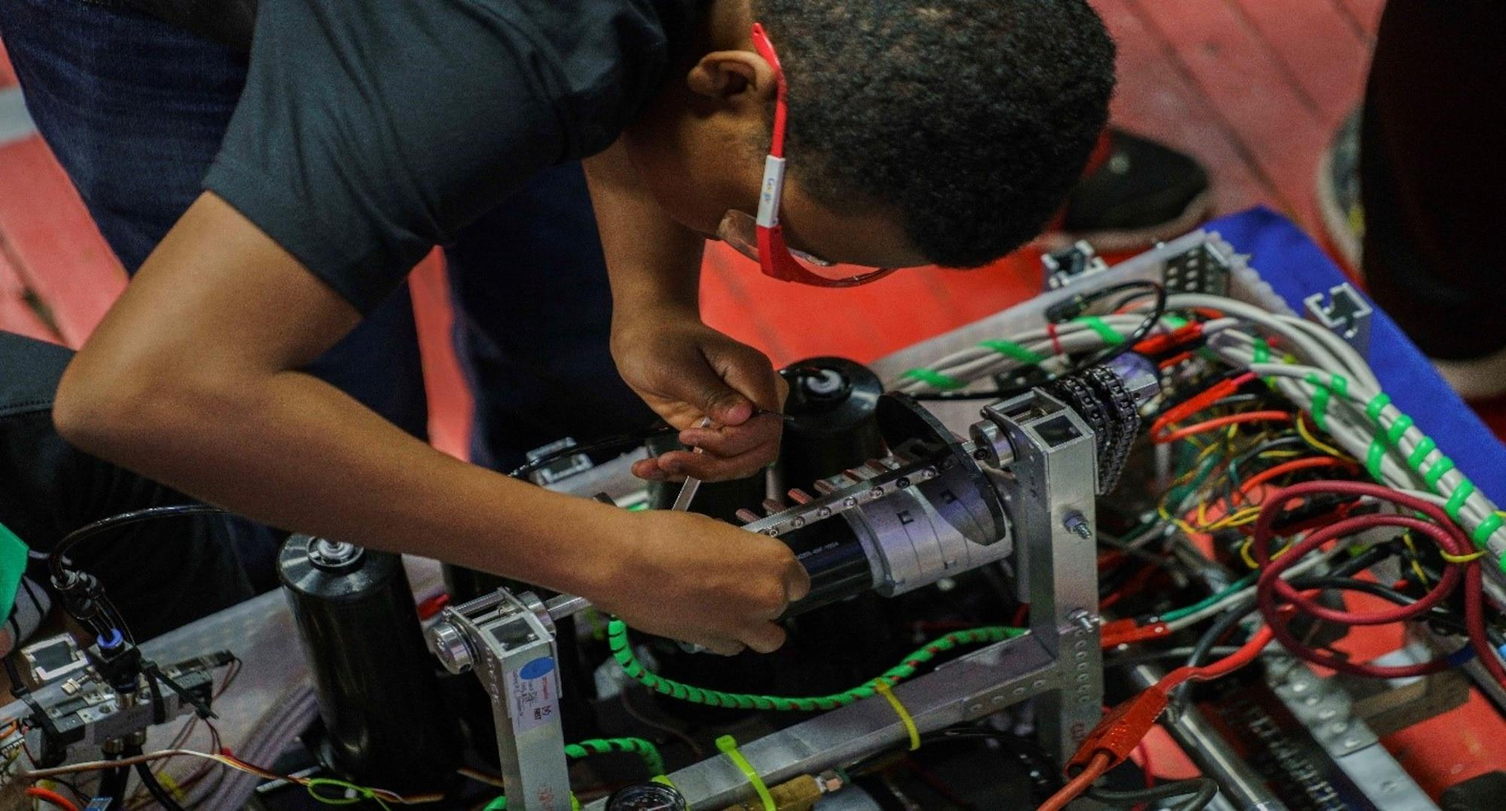robot: (0, 196, 1506, 811)
